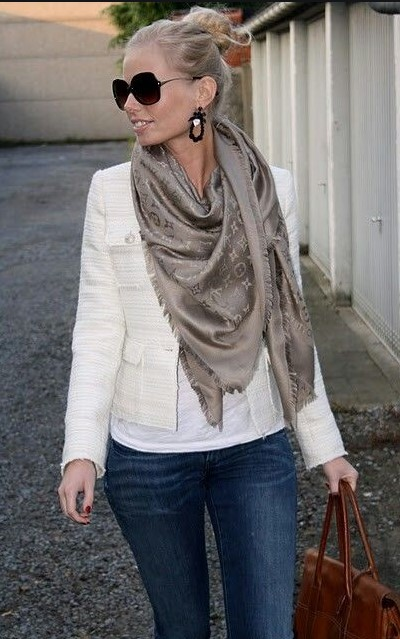face_no_mask: (117, 25, 222, 149)
